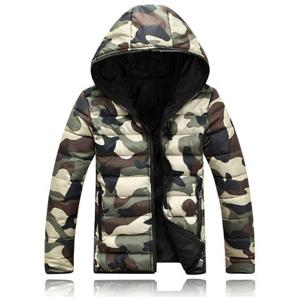C_jacket: (39, 4, 264, 283)
